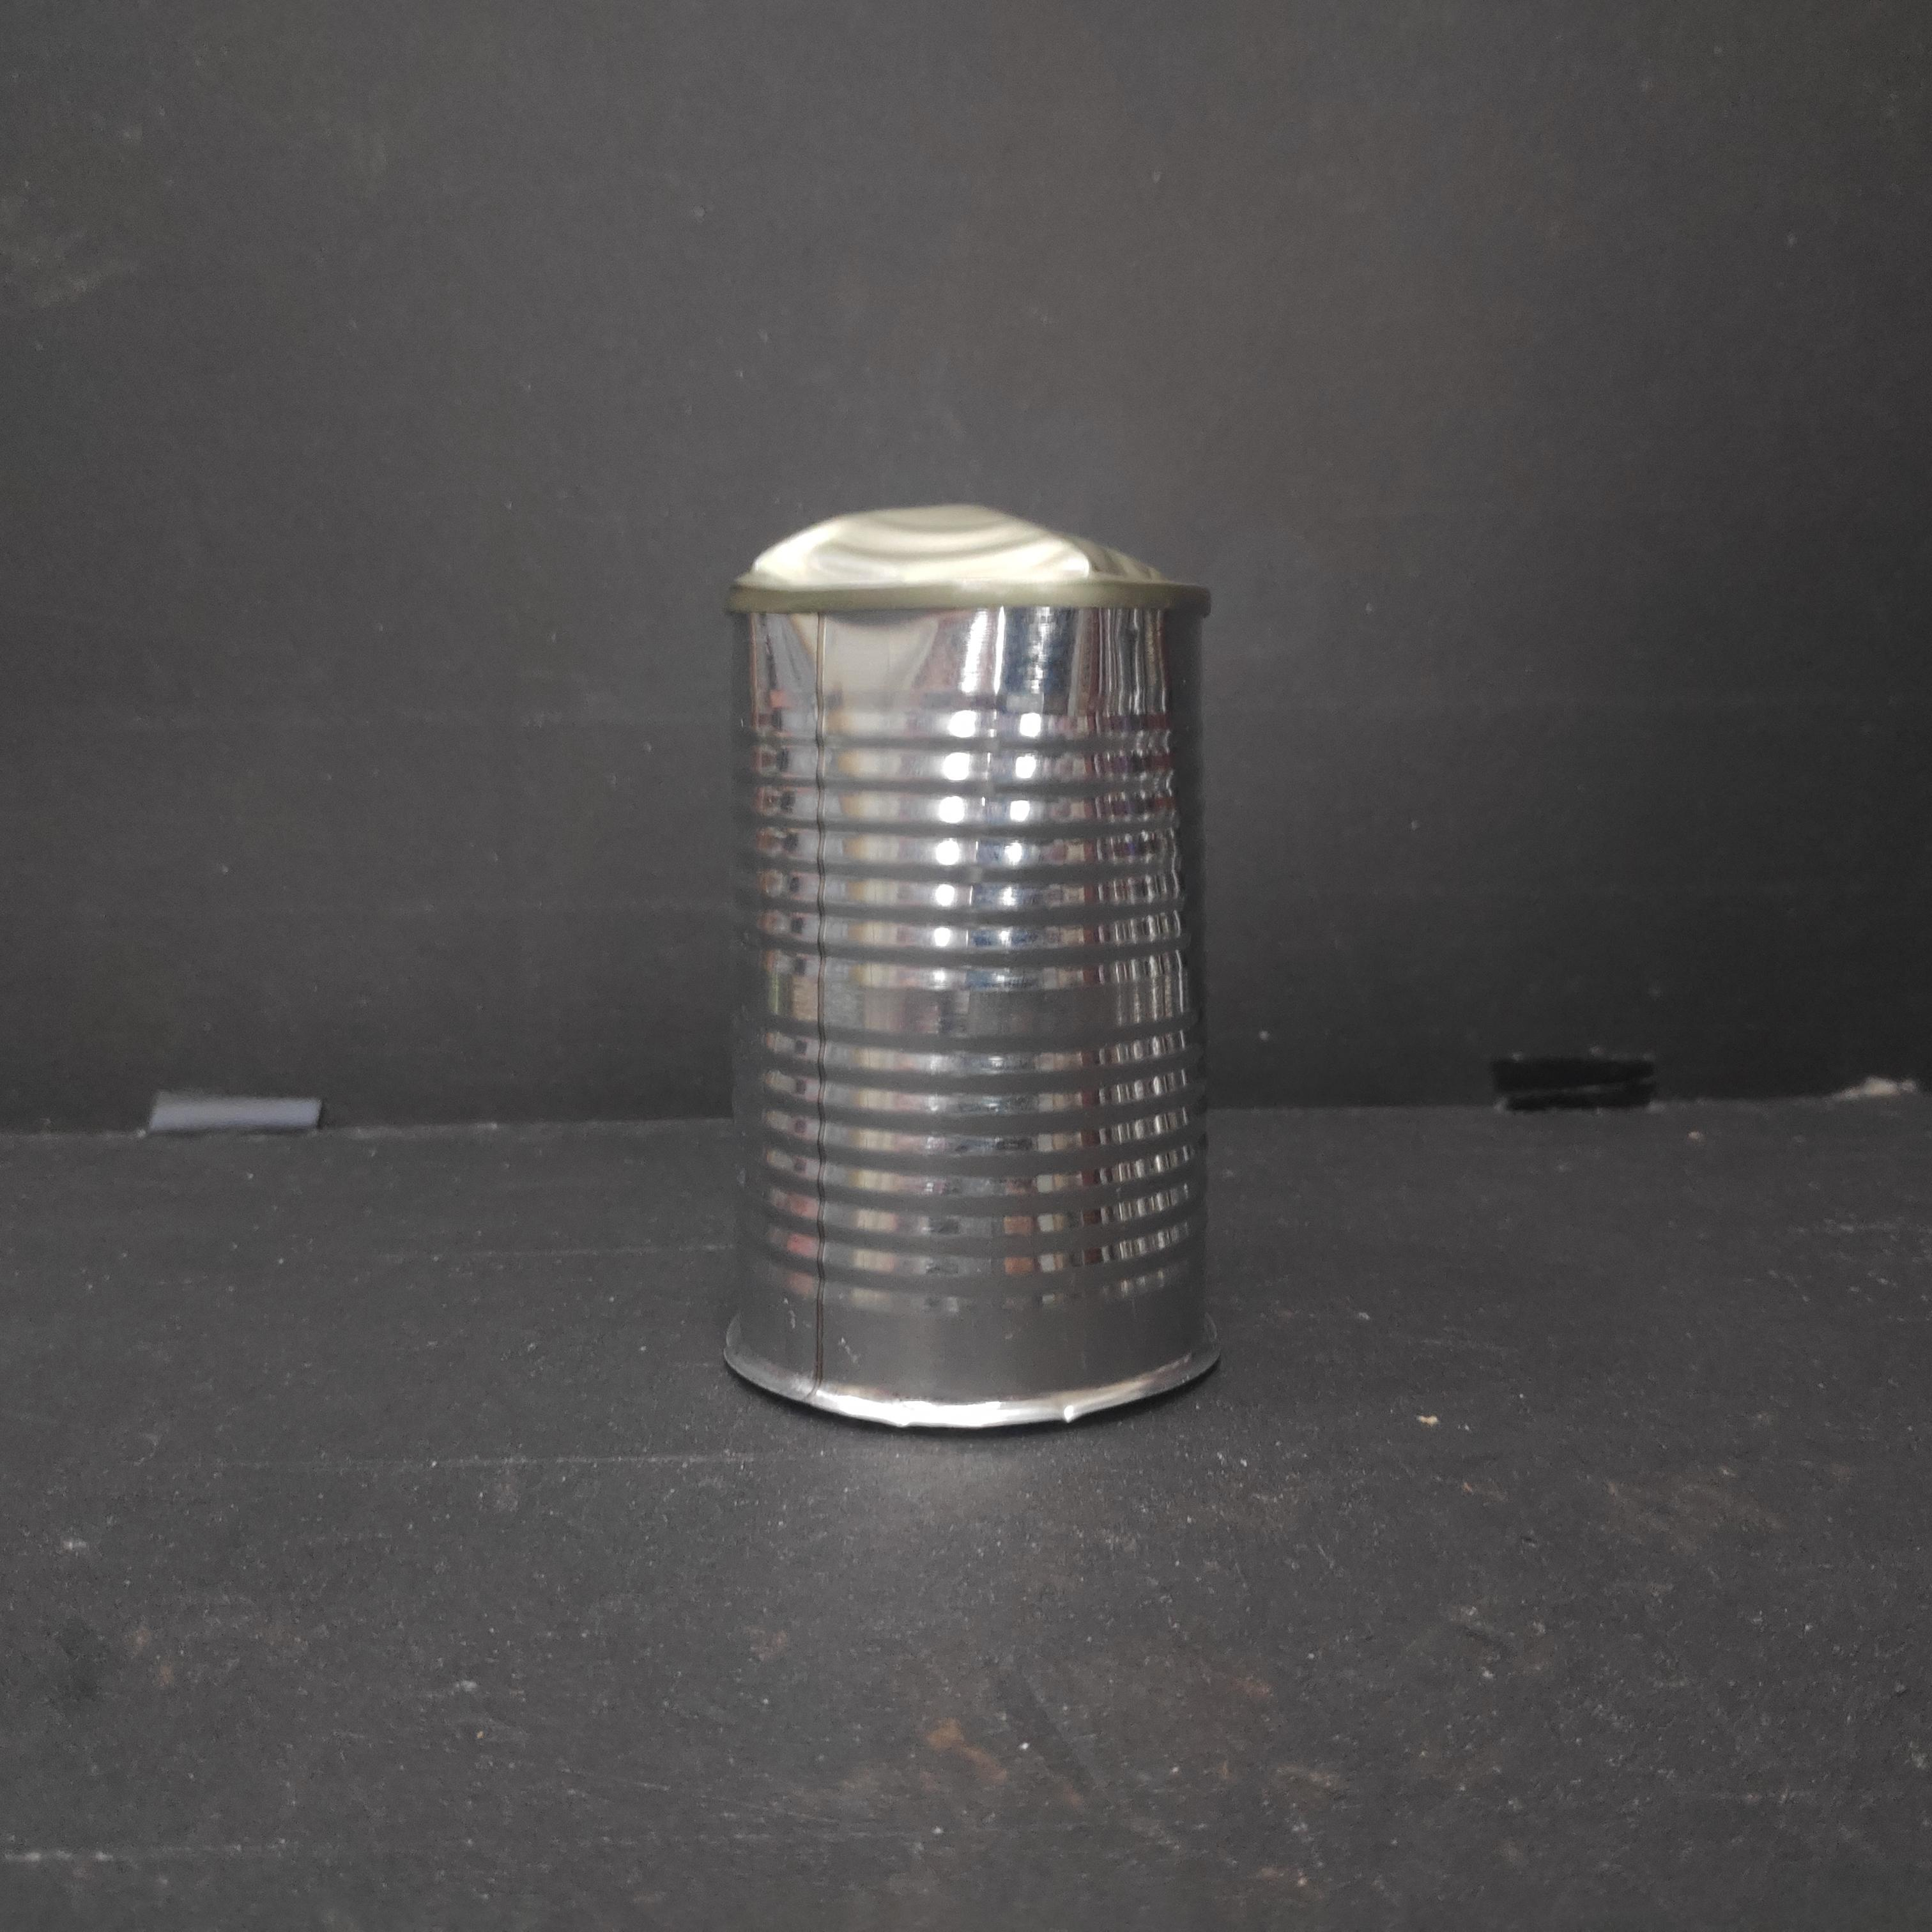Critical Defect: (723, 493, 1225, 1436)
